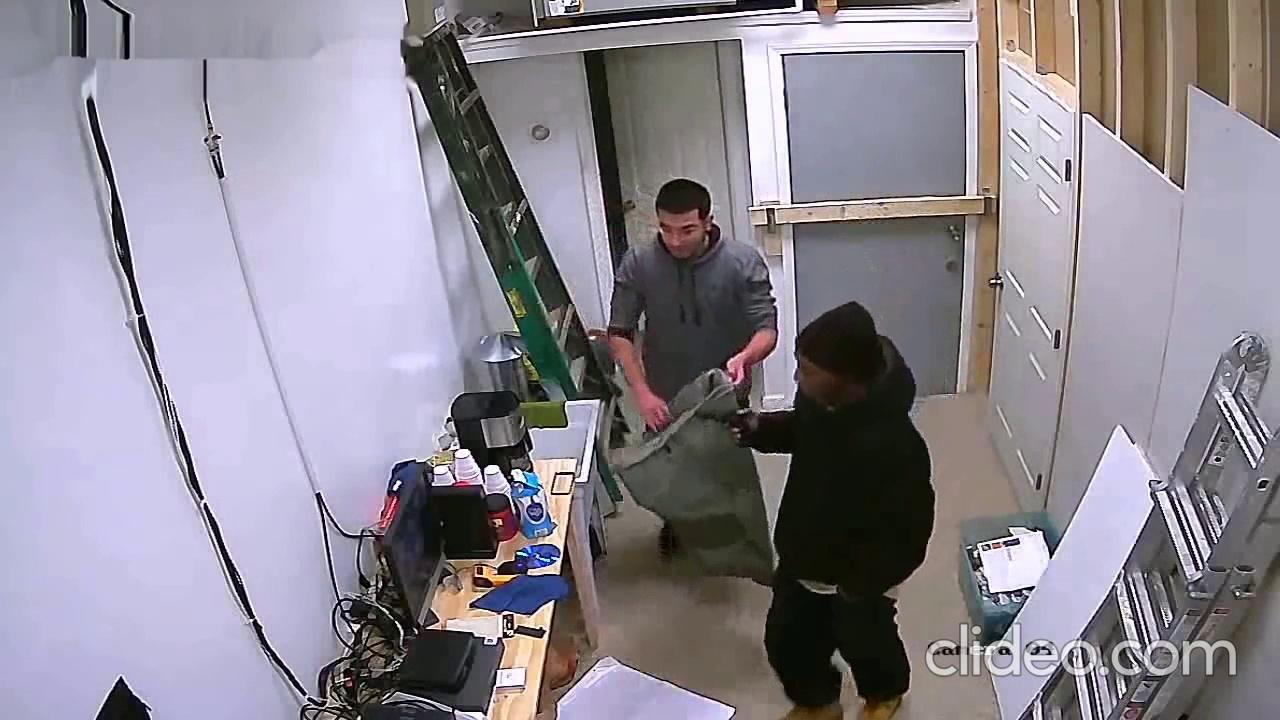person: (728, 298, 936, 720), (603, 175, 780, 562)
pistol: (693, 406, 759, 452)
